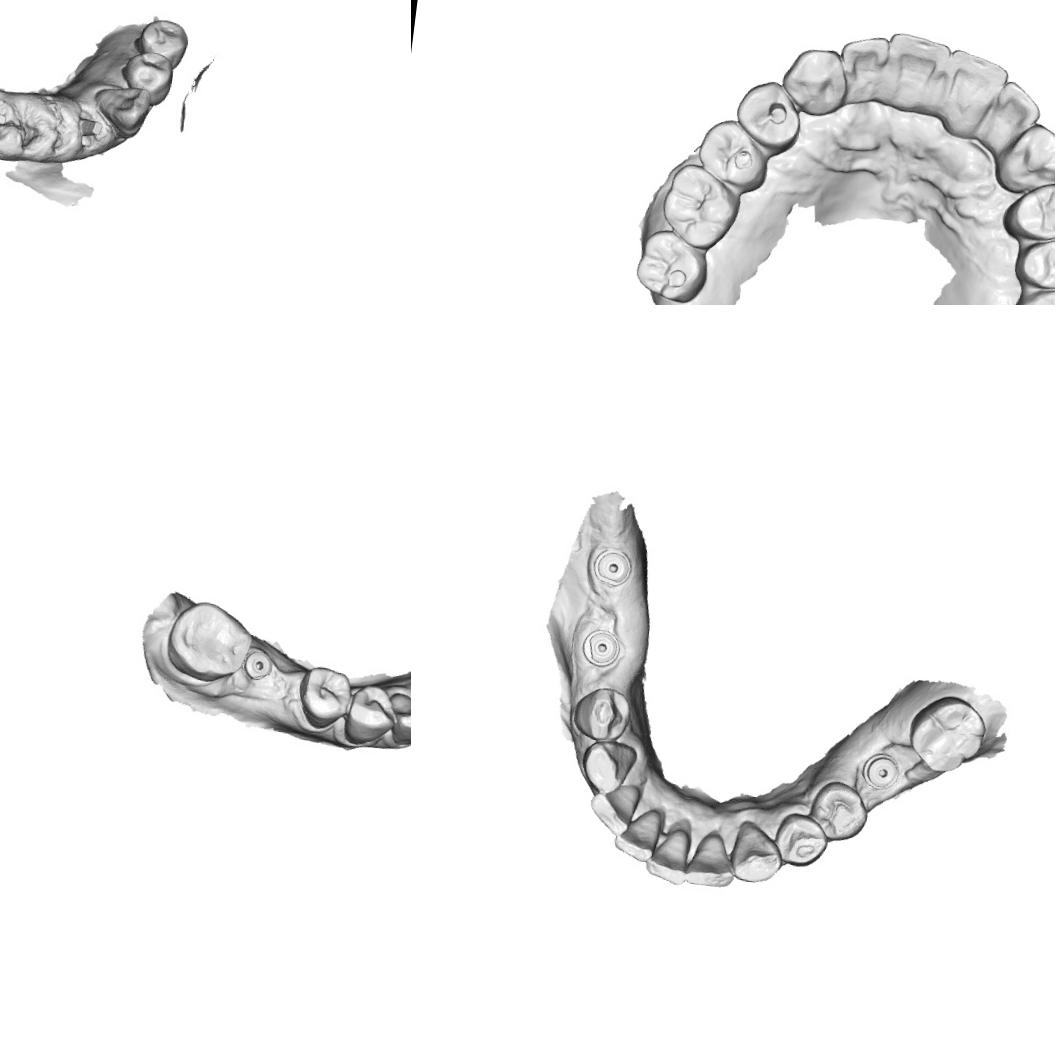abutment: (75, 114, 104, 143), (0, 105, 8, 133)
canine: (778, 40, 852, 119), (995, 117, 1055, 195), (726, 817, 788, 886), (88, 80, 153, 140), (577, 736, 639, 796), (383, 690, 411, 749)
implant: (576, 624, 623, 670), (590, 546, 634, 589), (859, 750, 902, 793), (240, 648, 275, 682)
incisor: (876, 28, 955, 117), (940, 45, 1011, 130), (834, 29, 894, 110), (982, 77, 1046, 146), (586, 779, 642, 839), (684, 829, 739, 890), (611, 804, 664, 864), (643, 826, 692, 886)
molar: (162, 596, 256, 688), (656, 158, 746, 254), (902, 688, 995, 780), (630, 225, 712, 305)
premolar: (690, 114, 772, 195), (730, 74, 806, 155), (806, 776, 872, 844), (569, 682, 636, 746), (294, 664, 355, 732), (341, 681, 401, 750), (1000, 175, 1055, 248), (772, 810, 832, 870), (118, 48, 176, 108), (134, 16, 192, 68), (1011, 231, 1055, 294)
